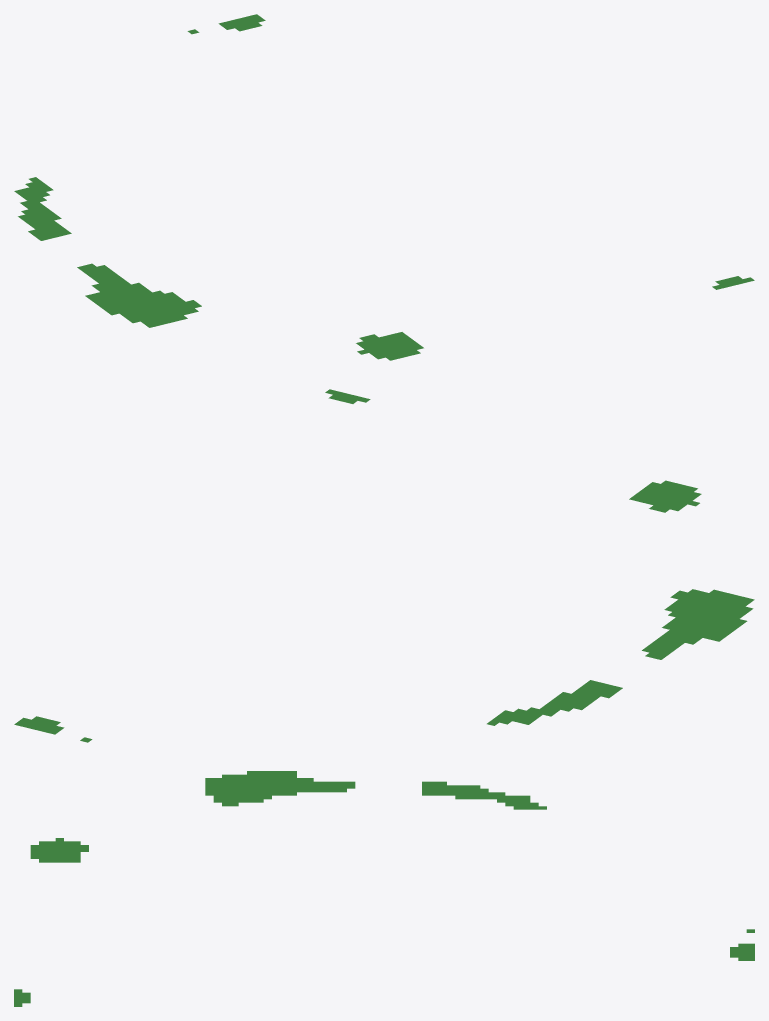
The model's file is Isl-atoll2-TreesArea.fbx.
3 views of the same model, one above another, from view 1: azimuth 30°, elevation 25°; view 2: azimuth 150°, elevation 25°; view 3: azimuth 270°, elevation 25° (orthographic). The views are drawn at different scales.
Visible parts, largest first — view 1: Isl-atoll2-TreesArea; view 2: Isl-atoll2-TreesArea; view 3: Isl-atoll2-TreesArea.
Part boxes in pixels (x1,y1,x2,y2): Isl-atoll2-TreesArea: (14, 14, 754, 360); Isl-atoll2-TreesArea: (14, 389, 754, 742); Isl-atoll2-TreesArea: (14, 771, 754, 1006).
Size of the model in its own units: 67 by 0 by 89.
